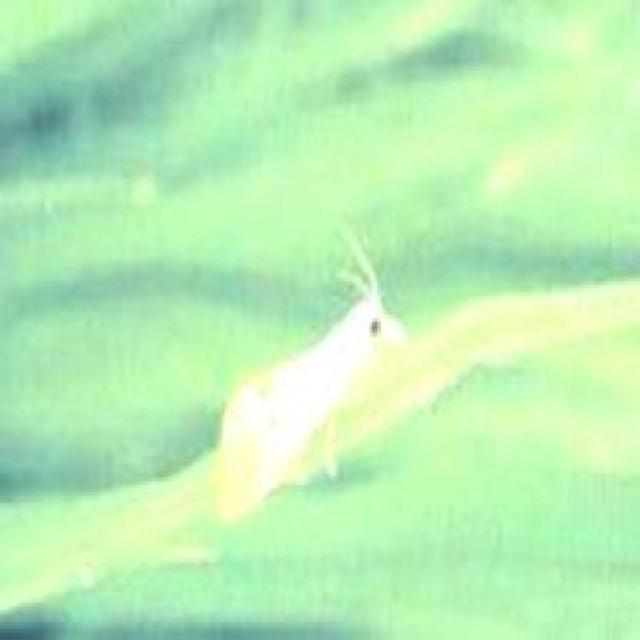stem-borer: (212, 222, 412, 530)
